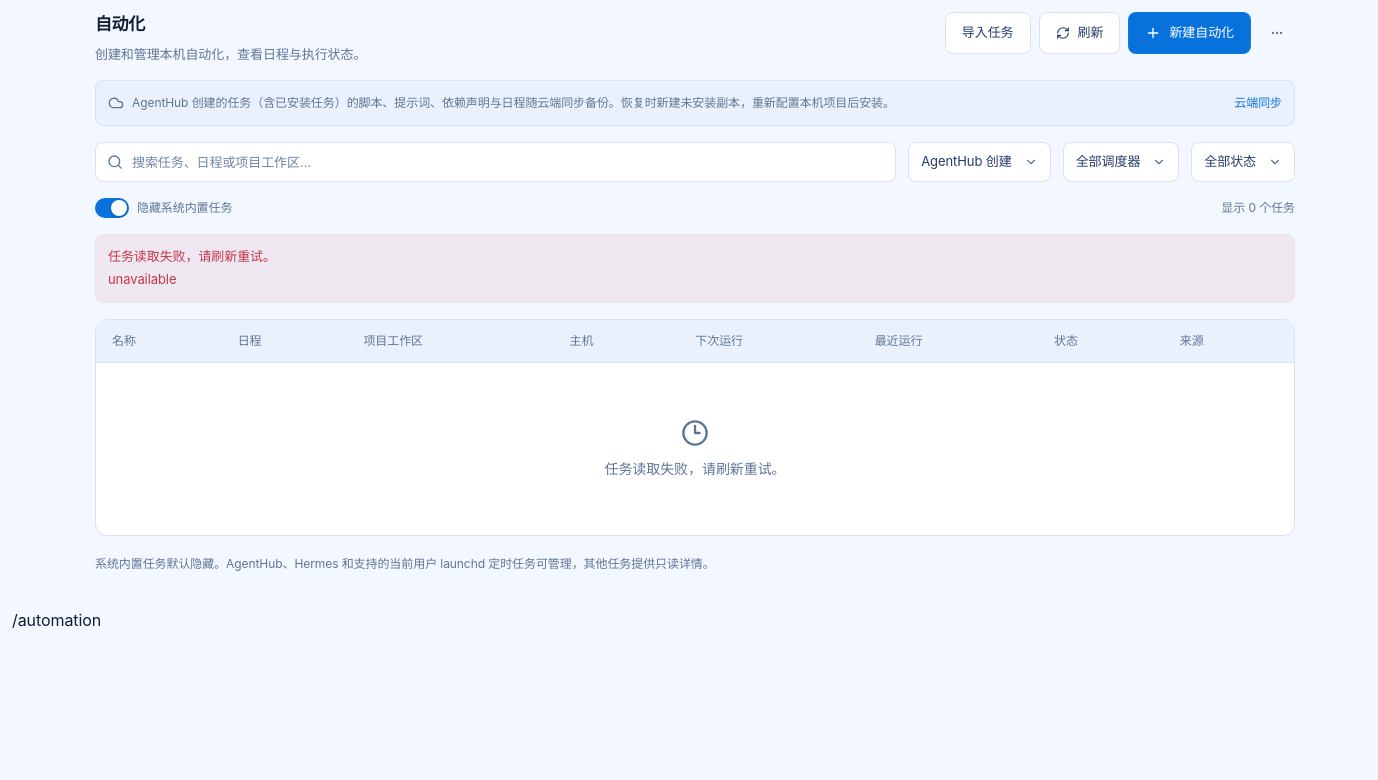
Test: provides retry after an initial read failure and shows an actual empty state
The image size is (1378, 780).
expect the message "任务读取失败，请刷新重试。 unavailable" is shown: met, box [95, 234, 1295, 302]
expect the text "未发现自动化任务" is not shown: met
Click the button "刷新".
click(1079, 33)  # box [1038, 12, 1120, 54]
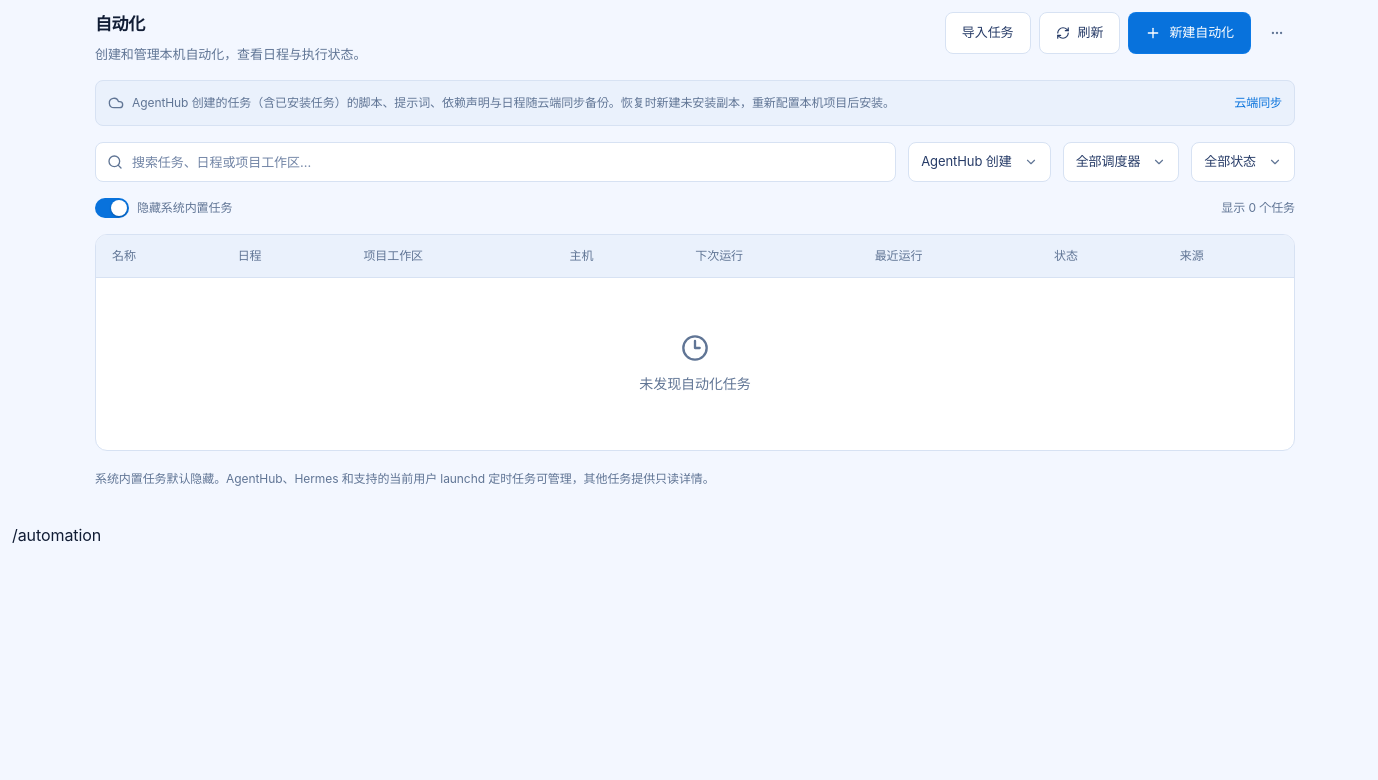
expect the text "未发现自动化任务" is shown: met, box [639, 374, 751, 394]
